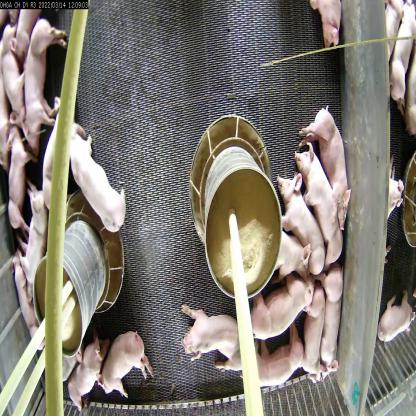Pig: (64, 128, 128, 241), (294, 105, 348, 230), (294, 135, 344, 268), (276, 166, 324, 281), (21, 24, 62, 143), (1, 122, 42, 238), (38, 100, 79, 214), (244, 276, 315, 340), (92, 324, 150, 400), (233, 335, 306, 391), (180, 301, 240, 366), (315, 265, 347, 379), (18, 187, 53, 291), (64, 343, 107, 409), (270, 224, 312, 290), (301, 277, 324, 390)
